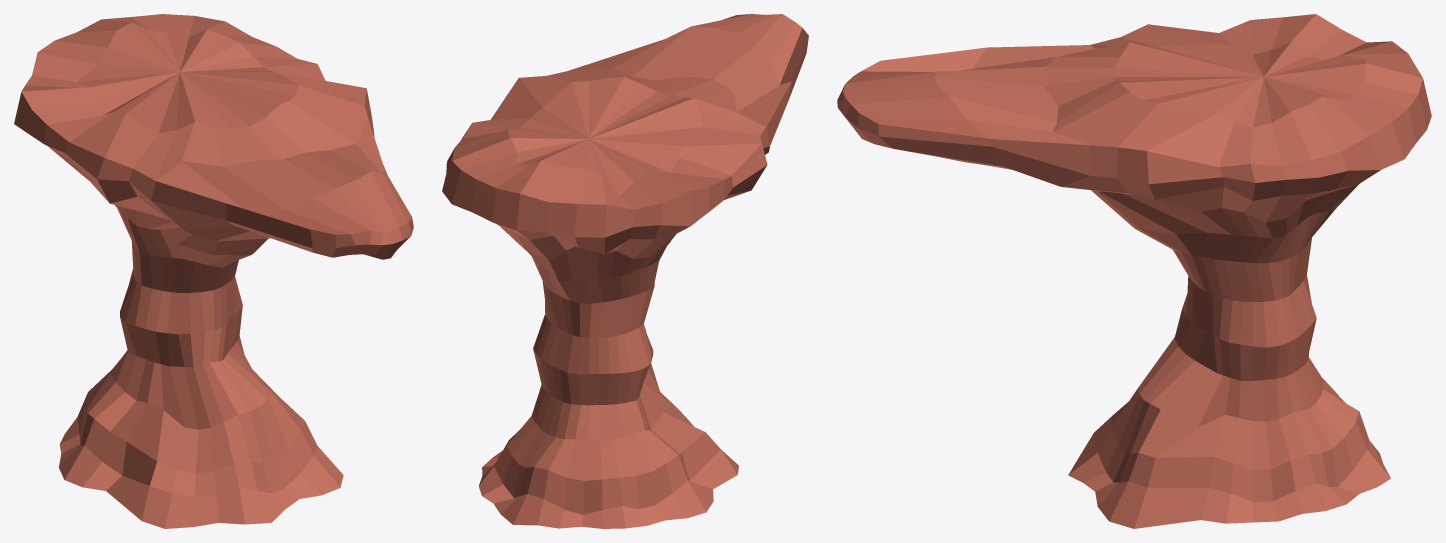
Rendered from rock2.fbx.
3 views of the same model, side by side, from view 1: azimuth 30°, elevation 25°; view 2: azimuth 150°, elevation 25°; view 3: azimuth 270°, elevation 25° (orthographic). The views are drawn at different scales.
Visible parts, largest first — view 1: Sphere; view 2: Sphere; view 3: Sphere.
Part boxes in pixels (<box>): Sphere: <box>14,14,413,528</box>; Sphere: <box>442,14,808,528</box>; Sphere: <box>837,14,1431,528</box>.
Size of the model in its own units: 962 by 1416 by 1709.
